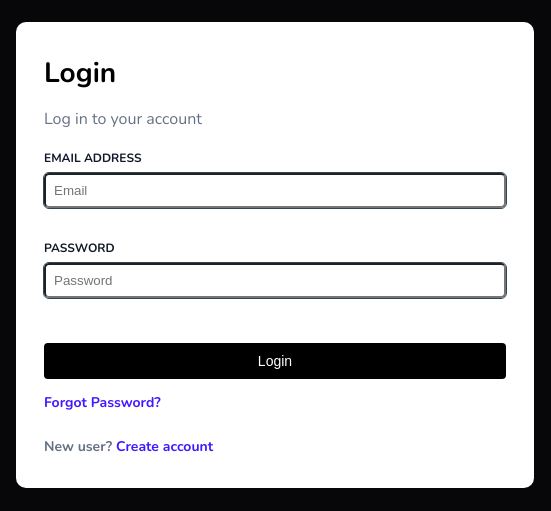
Test: Login Component › Loading Spinner should be displayed when user clicks on the login button
Type "lawrenceyoma@gmail.com" into the field with placeholder "EMAIL".
click(275, 190); type("lawrenceyoma@gmail.com")  # box [44,173,506,208]
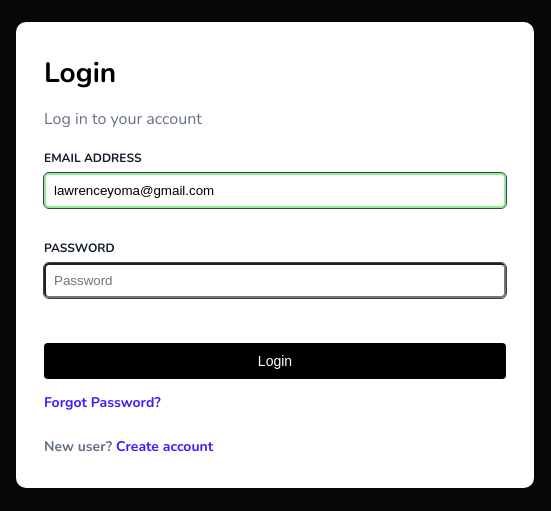
Type "somewrongpassword" into the password field with placeholder "PASSWORD".
click(275, 280); type("somewrongpassword")  # box [44,263,506,298]
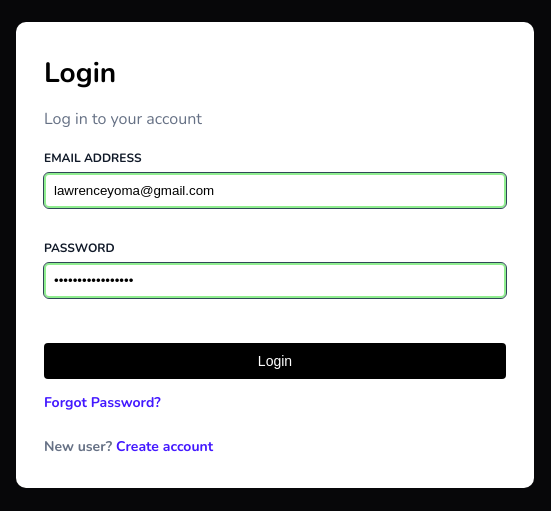
# onClick test simulation
Click the button.
click(275, 360)  # box [44,342,506,378]
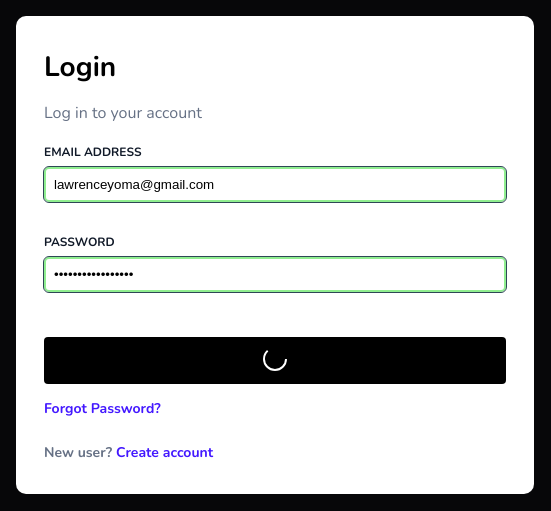
expect the progress indicator with test id "loadingSpinner" is shown: met, box [263,347,287,371]
